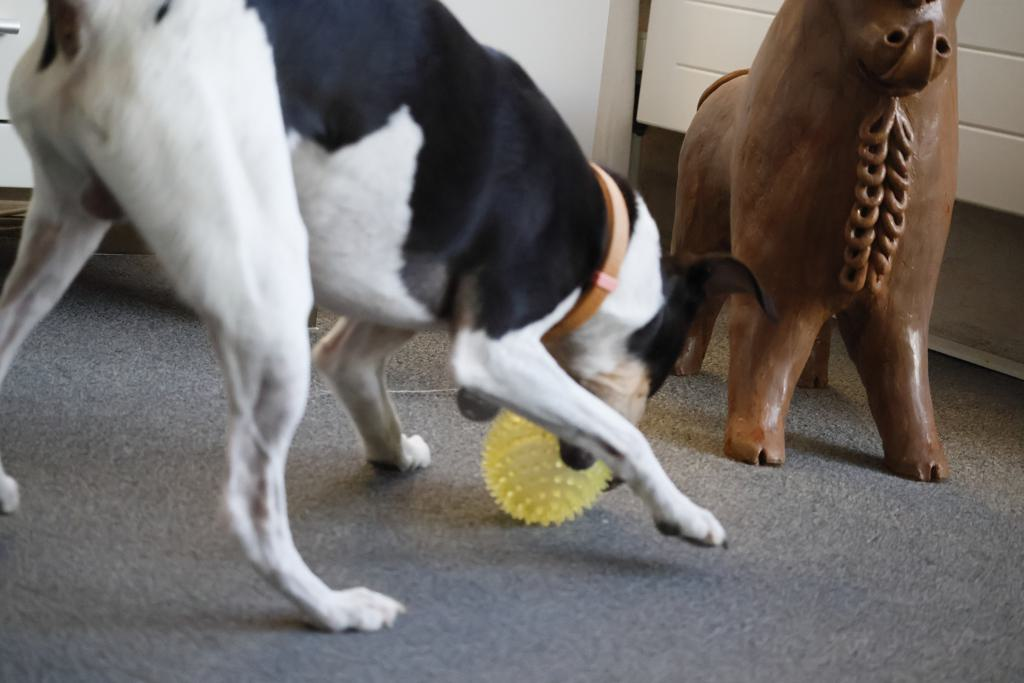Cattle: (648, 0, 985, 510)
Dog: (0, 0, 750, 640)
